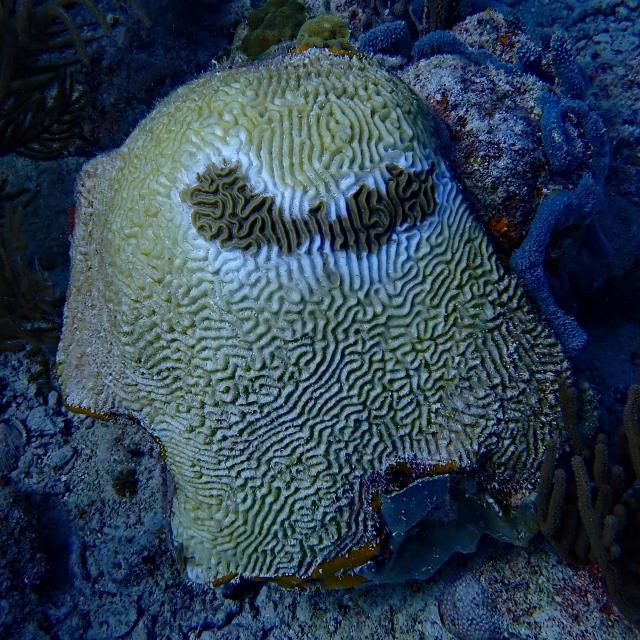Coral: (56, 45, 570, 585), (536, 378, 640, 622)
